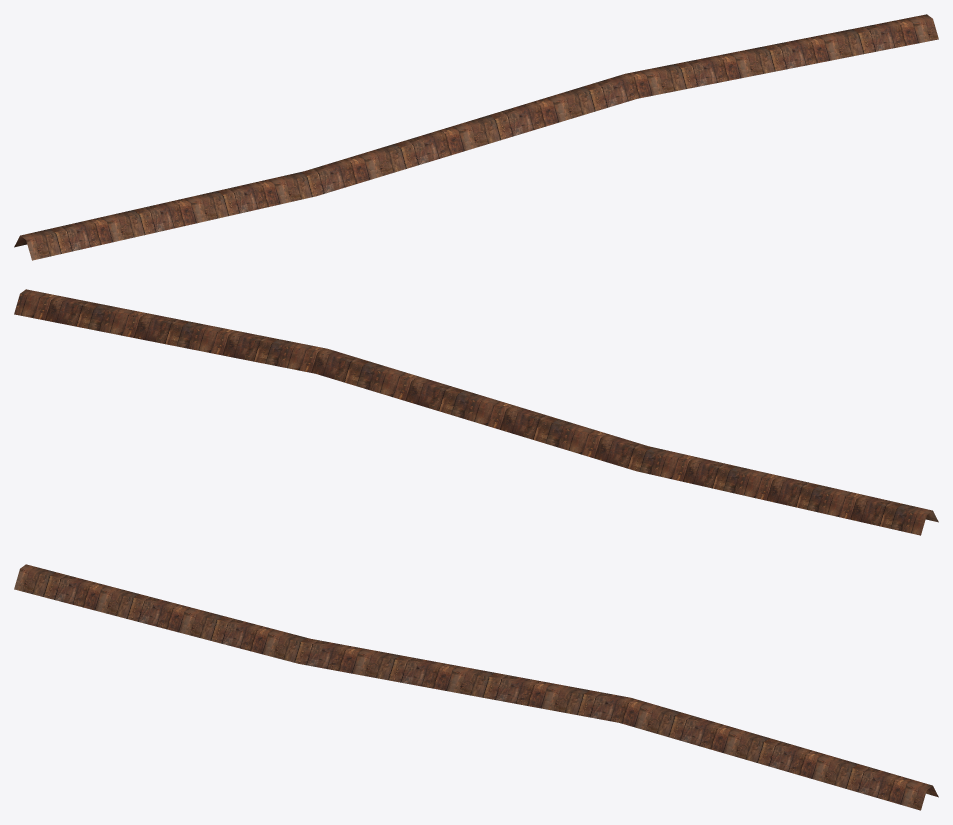
The model's file is roof_cover.fbx.
3 views of the same model, one above another, from view 1: azimuth 30°, elevation 25°; view 2: azimuth 150°, elevation 25°; view 3: azimuth 330°, elevation 25° (orthographic).
Visible parts, largest first — view 1: polySurface76; view 2: polySurface76; view 3: polySurface76.
Boxes of the visible parts, x1,y1,x2,y2 form: polySurface76: (14, 14, 938, 260); polySurface76: (14, 289, 938, 535); polySurface76: (14, 564, 938, 810).
Size of the model in its own units: 954 by 35.63 by 32.93.
